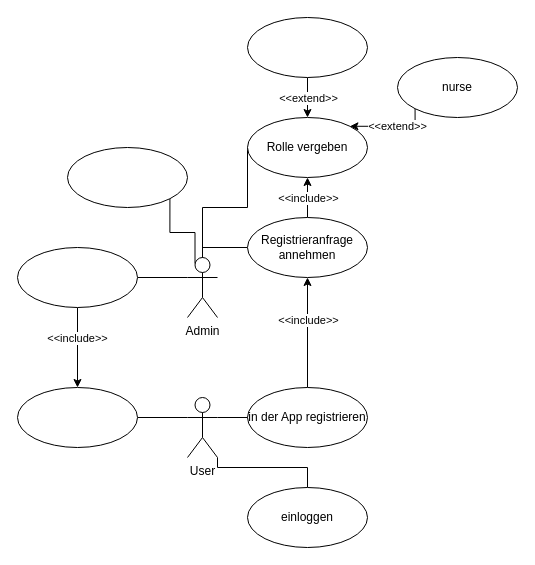
Some shapes in this 535 by 565 pixel diagram are drawn without their labels. Each missing label, with the centre of its shape:
Account löschen: the point at 127,177
Account-Daten ändern: the point at 77,277
Persönliche Datenänderung anfragen: the point at 77,417
senior nurse: the point at 307,47
